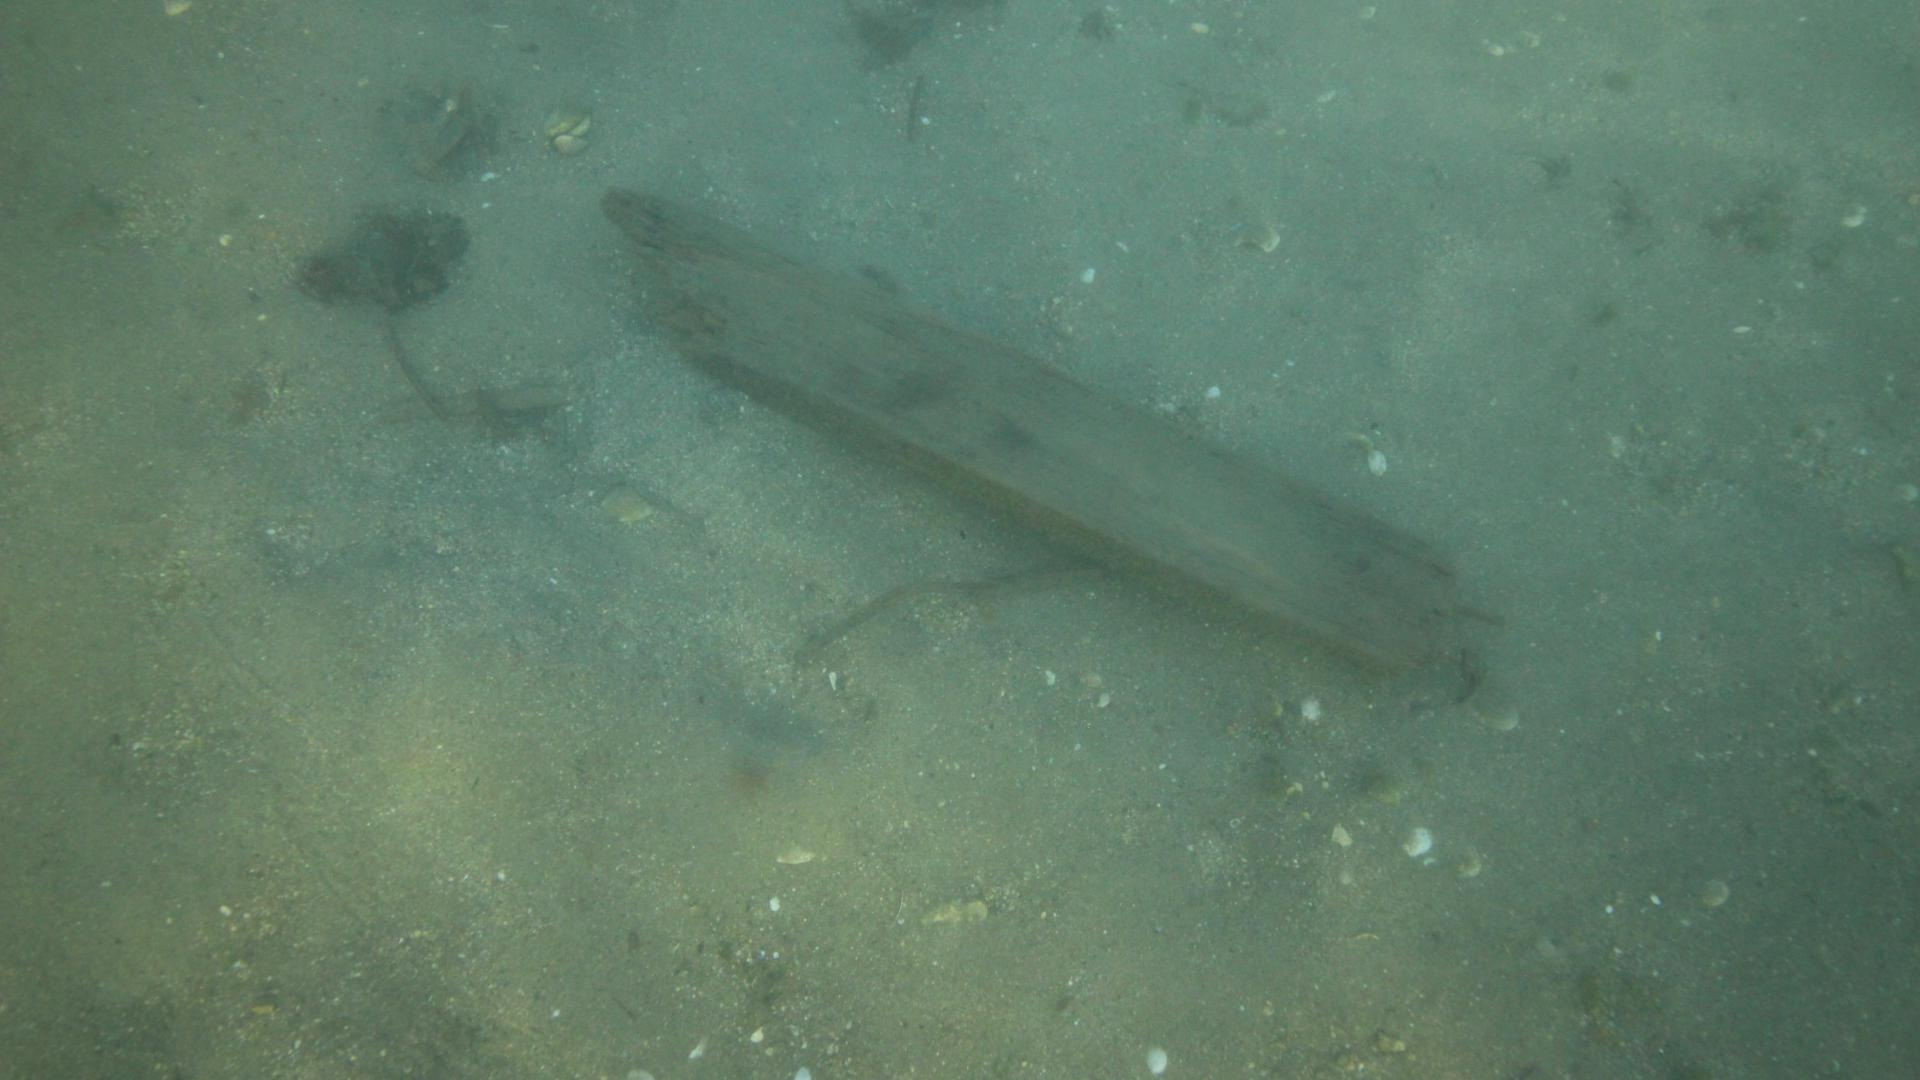wood: (597, 182, 1456, 671)
